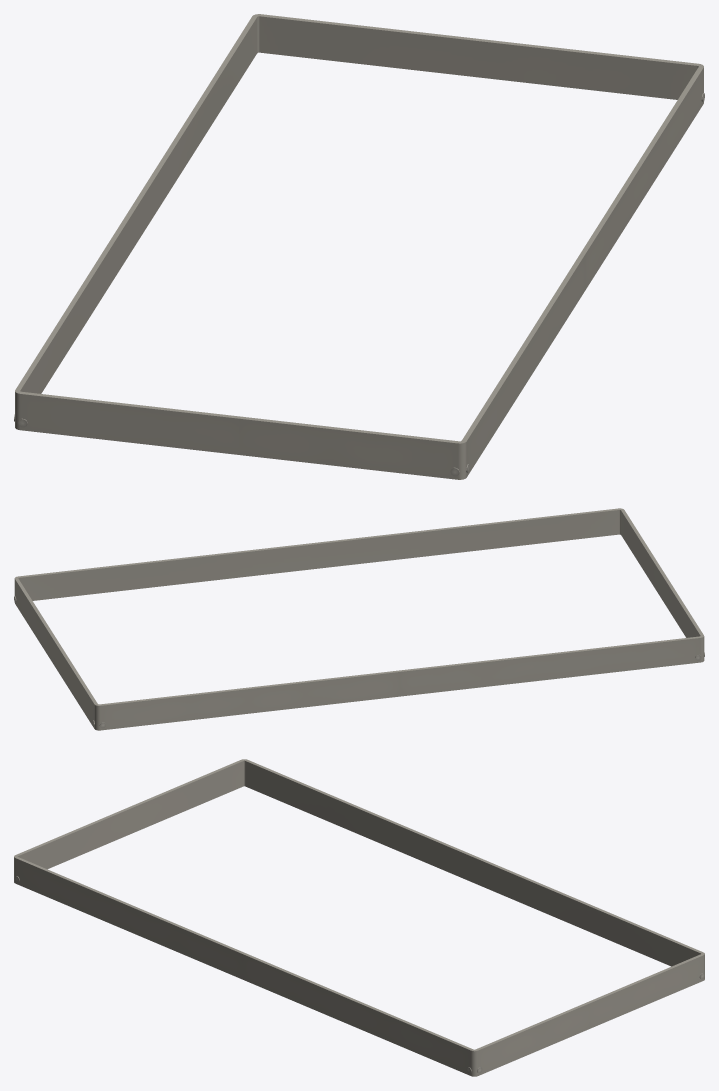
File: bottom_frame_0201_w800_d400.glb
3 renders of one model, top to bottom at view 1: azimuth 30°, elevation 25°; view 2: azimuth 150°, elevation 25°; view 3: azimuth 270°, elevation 25°, orthographic. The views are drawn at different scales.
Visible parts, largest first — view 1: bottom_frame_0201_w800_d400; view 2: bottom_frame_0201_w800_d400; view 3: bottom_frame_0201_w800_d400.
Part boxes in pixels (x1=…): bottom_frame_0201_w800_d400: x1=14, y1=14, x2=704, y2=479; bottom_frame_0201_w800_d400: x1=14, y1=508, x2=704, y2=730; bottom_frame_0201_w800_d400: x1=14, y1=759, x2=704, y2=1076.
Bounding box in the file's own units: 0.8407 × 0.0343 × 0.8407.
1 material, 1 textured.
